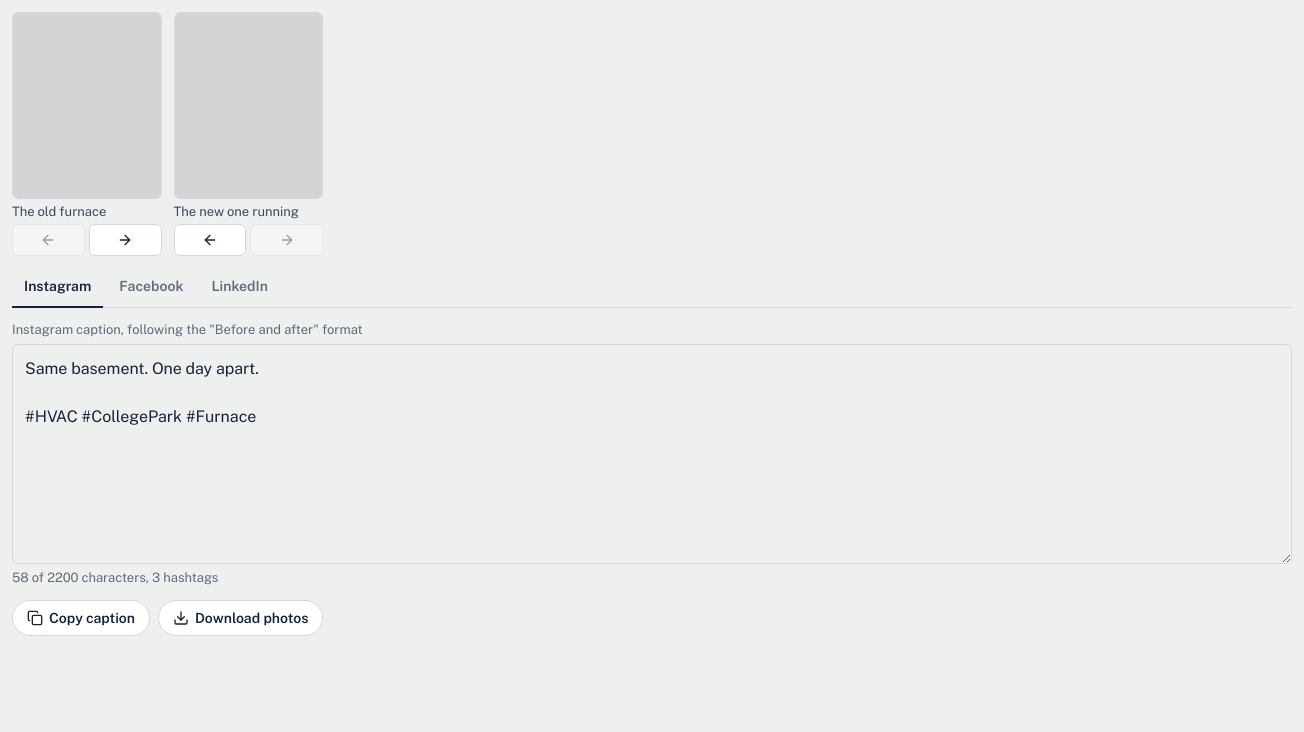
Scenario: PostPreview › switches to each platform's caption and reports it to the card
Click the tab "LinkedIn": (240, 288) [200,268,280,308]
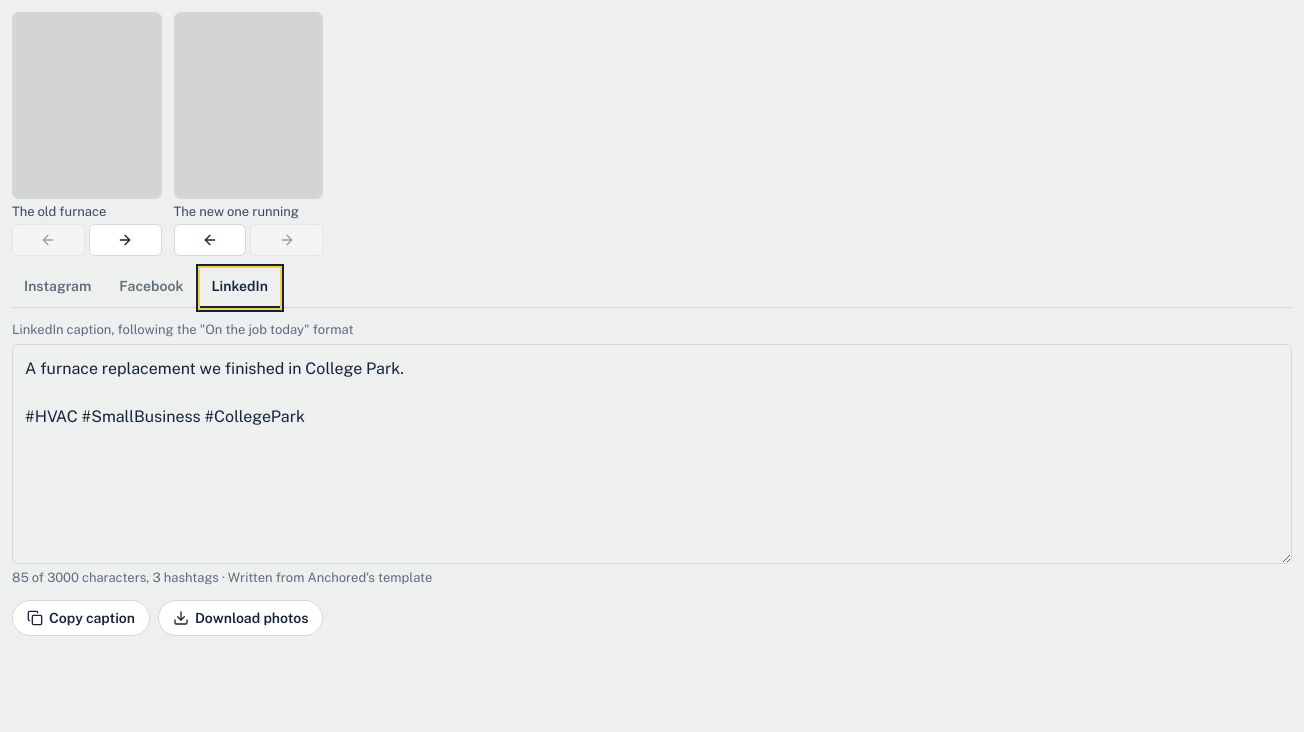
Now the text "Written from Anchored's template" is shown, box [219,570,432,585]
